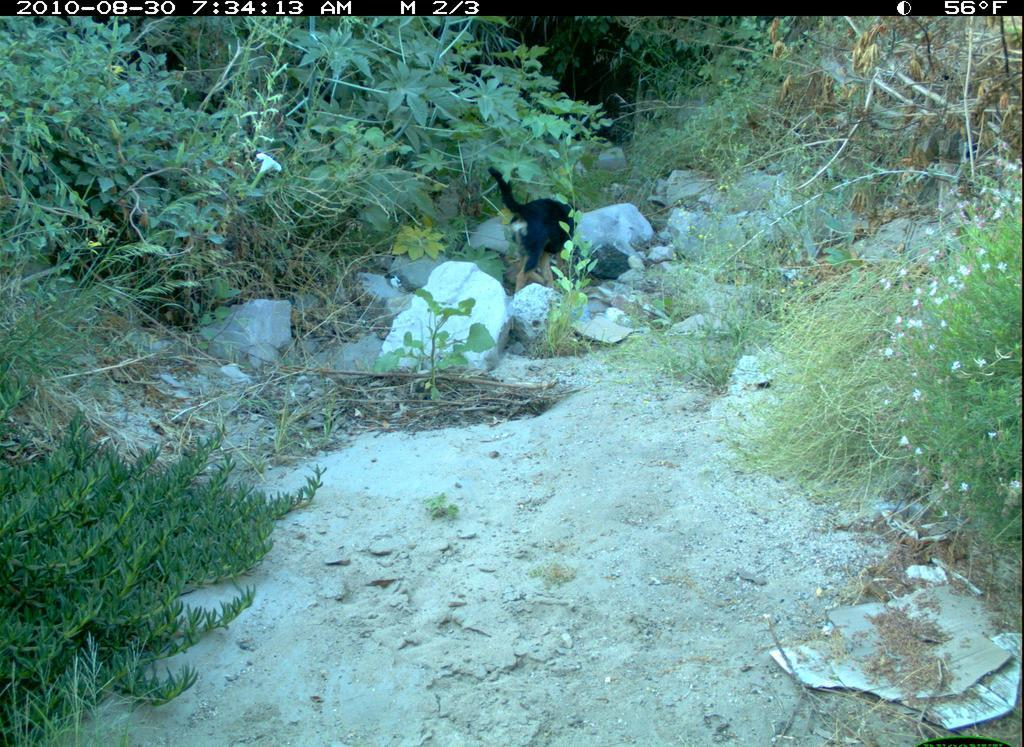dog: (476, 157, 617, 292)
